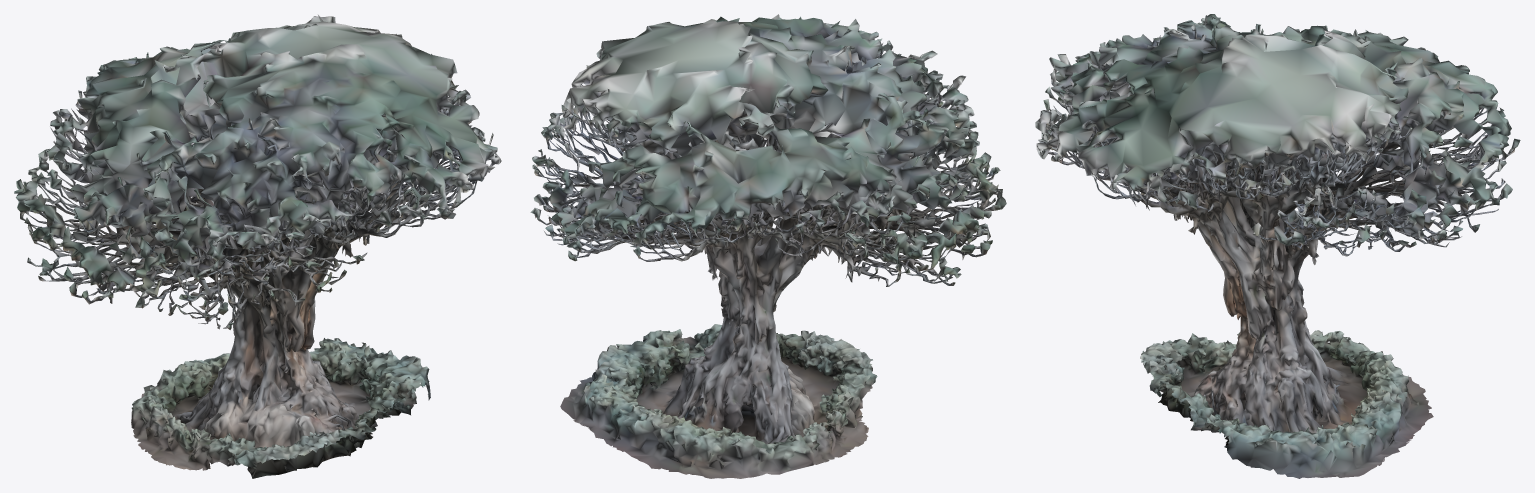
Rendered from DragoXR_LowPoly_002.glb.
3 renders of one model, left to right at view 1: azimuth 30°, elevation 25°; view 2: azimuth 150°, elevation 25°; view 3: azimuth 270°, elevation 25°, orthographic. The views are drawn at different scales.
Parts seen in each view (by area): view 1: Drago29_Hig_003_copy_LOD0.466; view 2: Drago29_Hig_003_copy_LOD0.466; view 3: Drago29_Hig_003_copy_LOD0.466.
Part boxes in pixels (x1=…): Drago29_Hig_003_copy_LOD0.466: x1=14, y1=15, x2=501, y2=478; Drago29_Hig_003_copy_LOD0.466: x1=530, y1=14, x2=1006, y2=478; Drago29_Hig_003_copy_LOD0.466: x1=1035, y1=14, x2=1520, y2=478.
Size of the model in its own units: 23.36 by 20.46 by 23.65.
